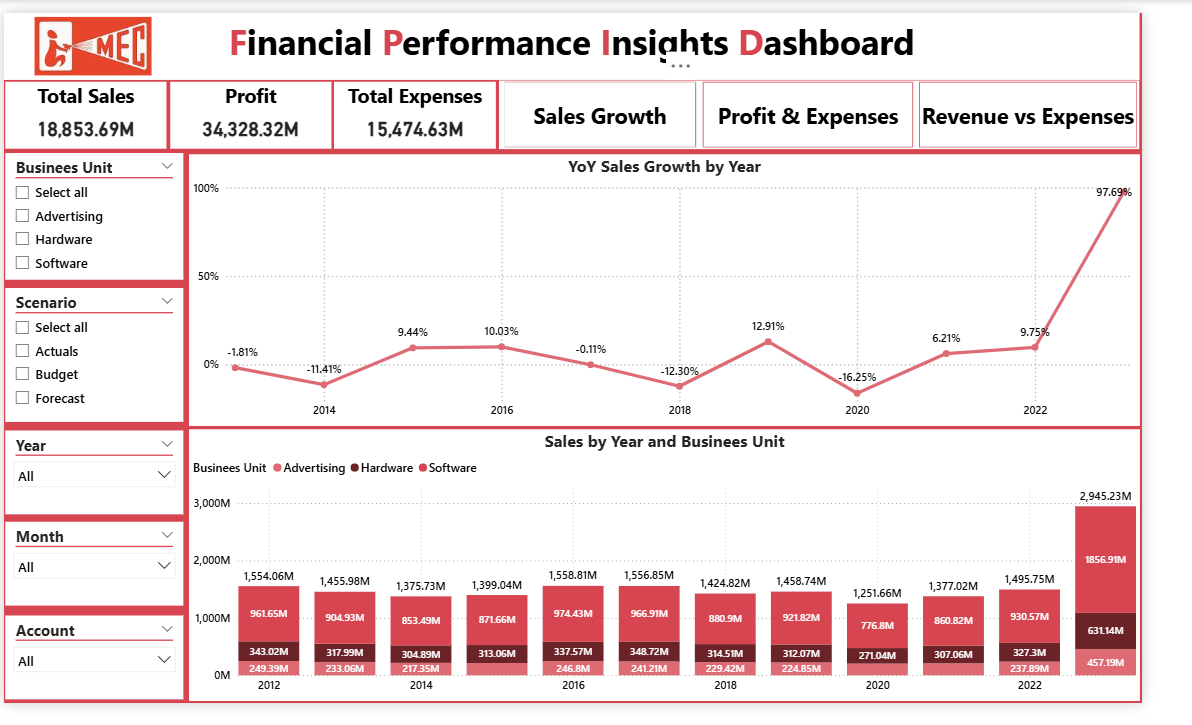

The page's visual inventory and layout, read from the dashboard file:
{"tool":"powerbi","page":{"name":"Reports","canvas":[1400,850],"ordinal":0},"visuals":[{"type":"lineChart","title":"YoY Sales Growth by Year","fields":{"Category":["Financials.Date.Variation.Date Hierarchy.Year"],"Y":["Measure Table.YoY Sales_1"]},"box":[227.1,173.5,1170.8,334.5],"z":0,"group":"g1"},{"type":"slicer","fields":{"Values":["Financials.Year"]},"box":[1.9,514.1,219.5,103.2],"z":0},{"type":"slicer","fields":{"Values":["Financials.Businees Unit"]},"box":[1.9,172.6,219.5,155.7],"z":1000},{"type":"columnChart","fields":{"Category":["Financials.Year"],"Series":["Financials.Businees Unit"],"Y":["Financials.Sales"]},"box":[227.1,512.1,1170.8,334.5],"z":1000,"group":"g1"},{"type":"slicer","fields":{"Values":["Financials.Month"]},"box":[1.9,626.7,219.5,103.2],"z":2000},{"type":"slicer","fields":{"Values":["Financials.Scenario"]},"box":[1.9,338.7,219.5,165.1],"z":3000},{"type":"slicer","fields":{"Values":["Financials.Account"]},"box":[1.9,741.2,219.5,103.2],"z":4000},{"type":"card","title":"Total Sales","fields":{"Values":["Measure Table.Sales"]},"box":[2.1,84.2,198,82.1],"z":5000},{"type":"card","title":"Total Expenses","fields":{"Values":["Measure Table.Total expense"]},"box":[406.7,84.4,198.9,82.6],"z":6000},{"type":"card","title":"Profit","fields":{"Values":["Measure Table.Profit"]},"box":[204.4,84.2,198,82.1],"z":7000},{"type":"group","id":"g1","title":"1 &3","box":[227.1,173.5,1170.8,673.2],"z":8000},{"type":"textbox","box":[0,0,1397.2,82.1],"z":10000},{"type":"image","box":[0,0,218.8,82.1],"z":11000},{"type":"shape","box":[609.8,82.6,788.1,84.4],"z":12000},{"type":"shape","title":"Sales","box":[615.5,84.4,236.4,81],"z":14000},{"type":"shape","title":"Profit and Expenses","box":[859.4,84.4,258.9,81],"z":15000},{"type":"shape","title":"Revenue and Expenses","box":[1125.8,84.4,268.3,81],"z":16000}]}

Visuals, with their boxes in screenshot pixels (x1, y1, x2, y2), scaled from the page's 1400x850 canvas onto the 1192x725 screenshot:
"YoY Sales Growth by Year" lineChart: select_region(193, 148, 1190, 433)
slicer - Financials.Year: select_region(2, 438, 189, 527)
slicer - Financials.Businees Unit: select_region(2, 147, 189, 280)
columnChart - Financials.Year x Financials.Businees Unit: select_region(193, 437, 1190, 722)
slicer - Financials.Month: select_region(2, 535, 189, 623)
slicer - Financials.Scenario: select_region(2, 289, 189, 430)
slicer - Financials.Account: select_region(2, 632, 189, 720)
"Total Sales" card: select_region(2, 72, 170, 142)
"Total Expenses" card: select_region(346, 72, 516, 142)
"Profit" card: select_region(174, 72, 343, 142)
"1 &3" group: select_region(193, 148, 1190, 722)
textbox: select_region(0, 0, 1190, 70)
image: select_region(0, 0, 186, 70)
shape: select_region(519, 70, 1190, 142)
"Sales" shape: select_region(524, 72, 725, 141)
"Profit and Expenses" shape: select_region(732, 72, 952, 141)
"Revenue and Expenses" shape: select_region(959, 72, 1187, 141)
